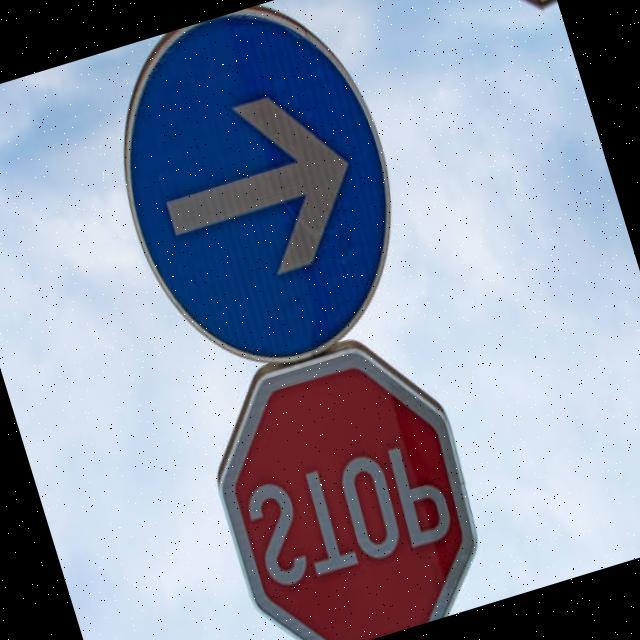compulsory_keep_right: (75, 0, 448, 406)
